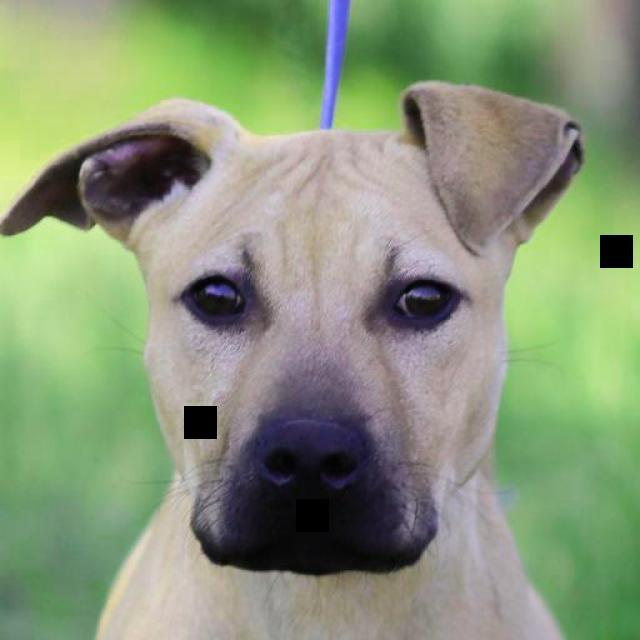puppy-dog: (1, 84, 597, 640)
